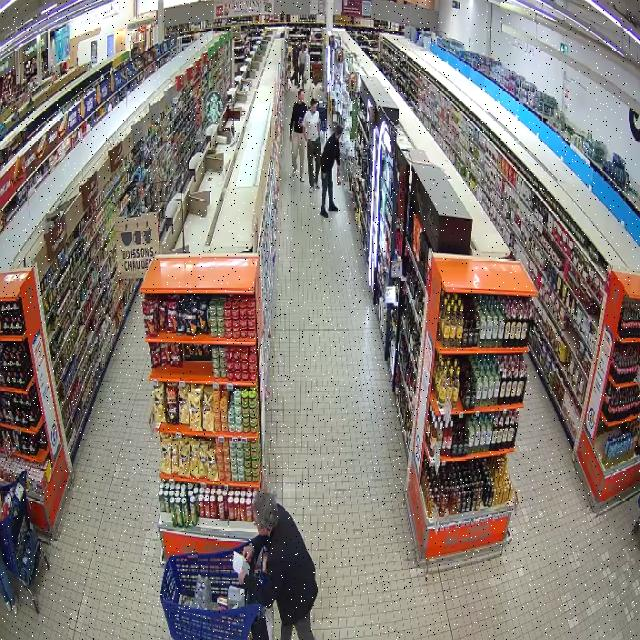article: (337, 170, 341, 185), (298, 117, 304, 125)
hands: (242, 546, 253, 563), (237, 567, 246, 585), (304, 133, 310, 142), (337, 166, 342, 173), (299, 121, 303, 127), (289, 134, 292, 142), (323, 173, 326, 178)
person: (239, 491, 317, 639), (320, 126, 341, 217), (303, 99, 320, 192), (290, 89, 307, 181)
